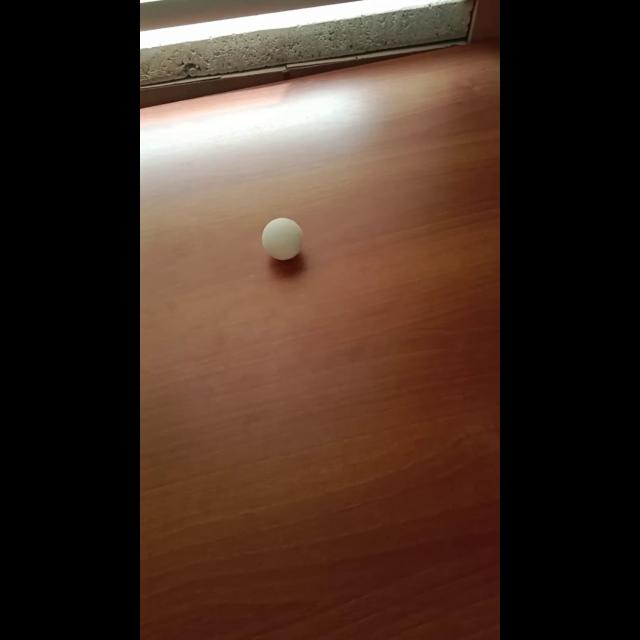white ball: (261, 217, 303, 261)
